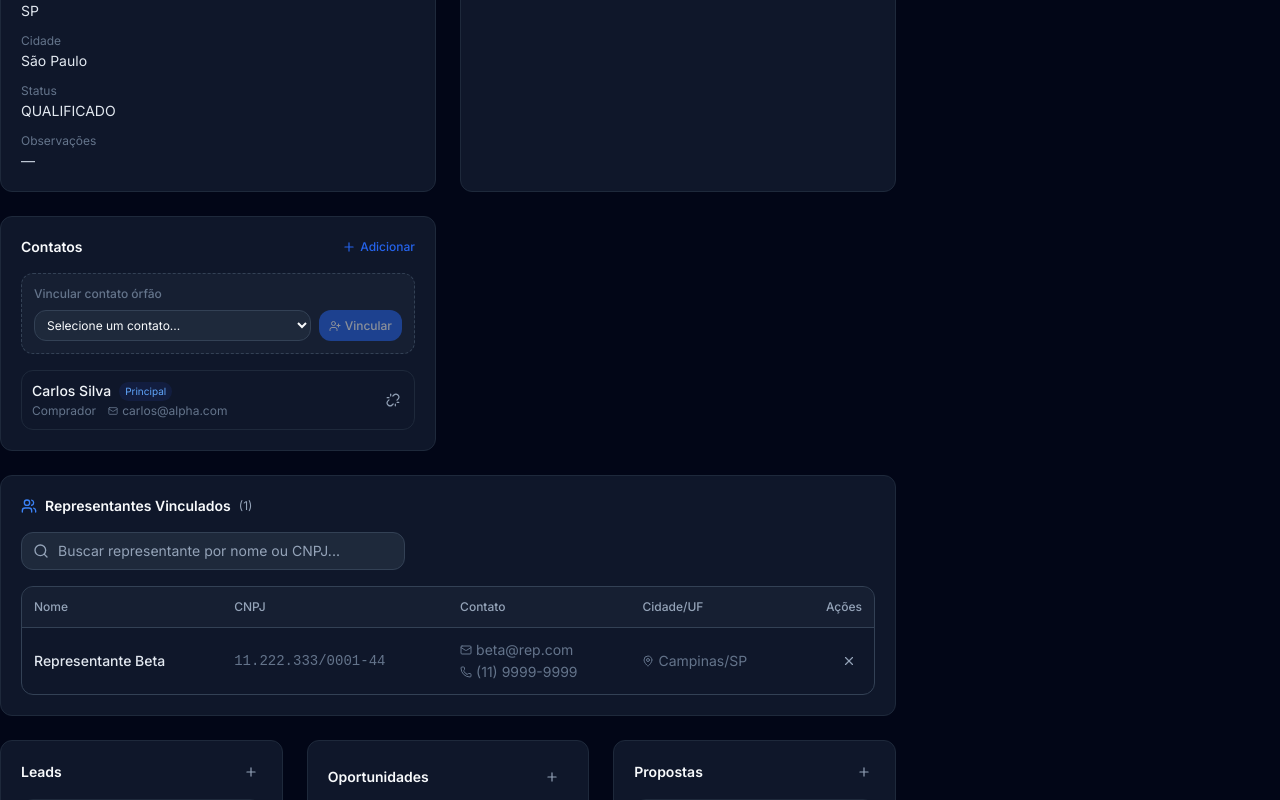
PessoaDetailPage › desvincula um contato da pessoa
(page scrolled)
Click the button titled "Desvincular contato". click: x=393, y=400
box: x1=382 y1=389 x2=404 y2=411
(page scrolled)
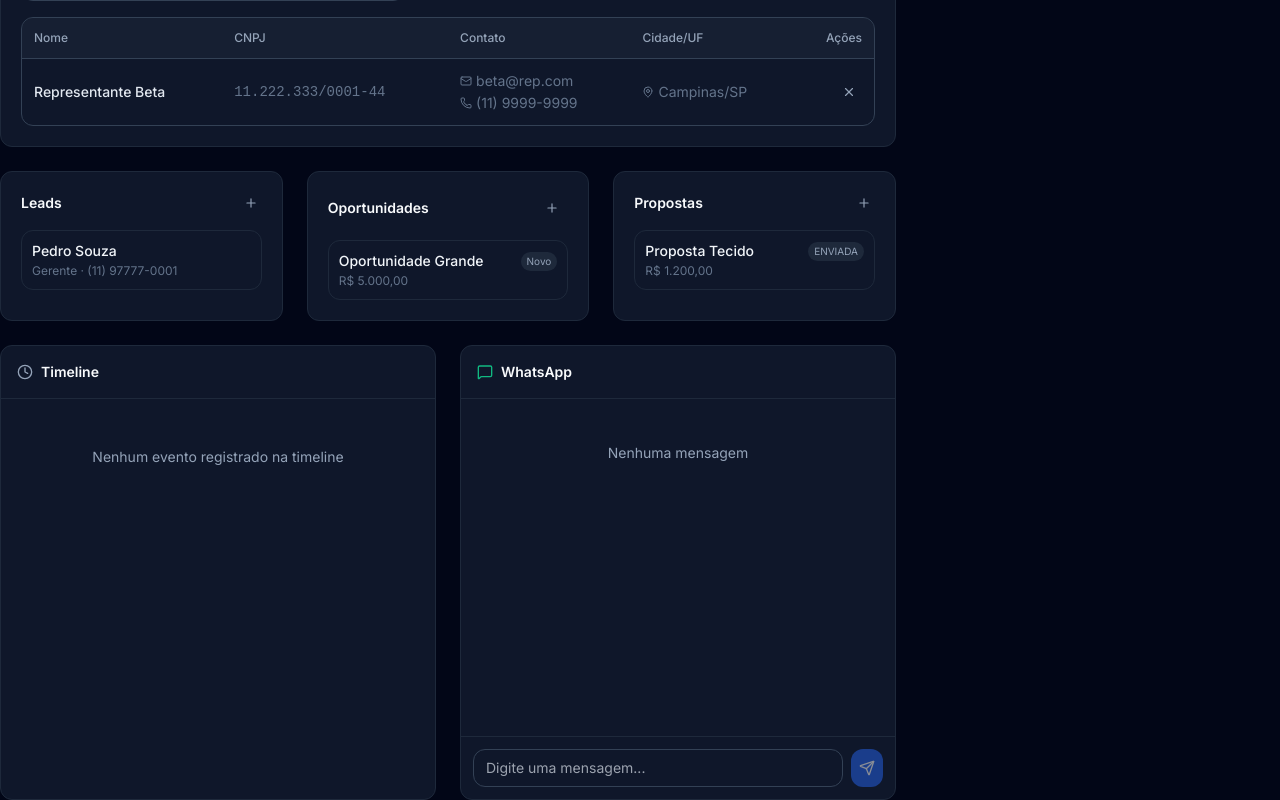
Check: the text "Carlos Silva" is gone
